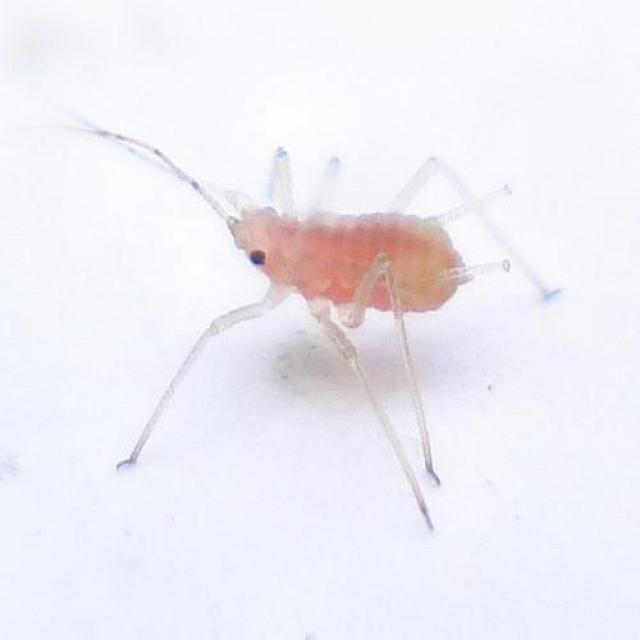Aphids: (108, 100, 550, 536)
